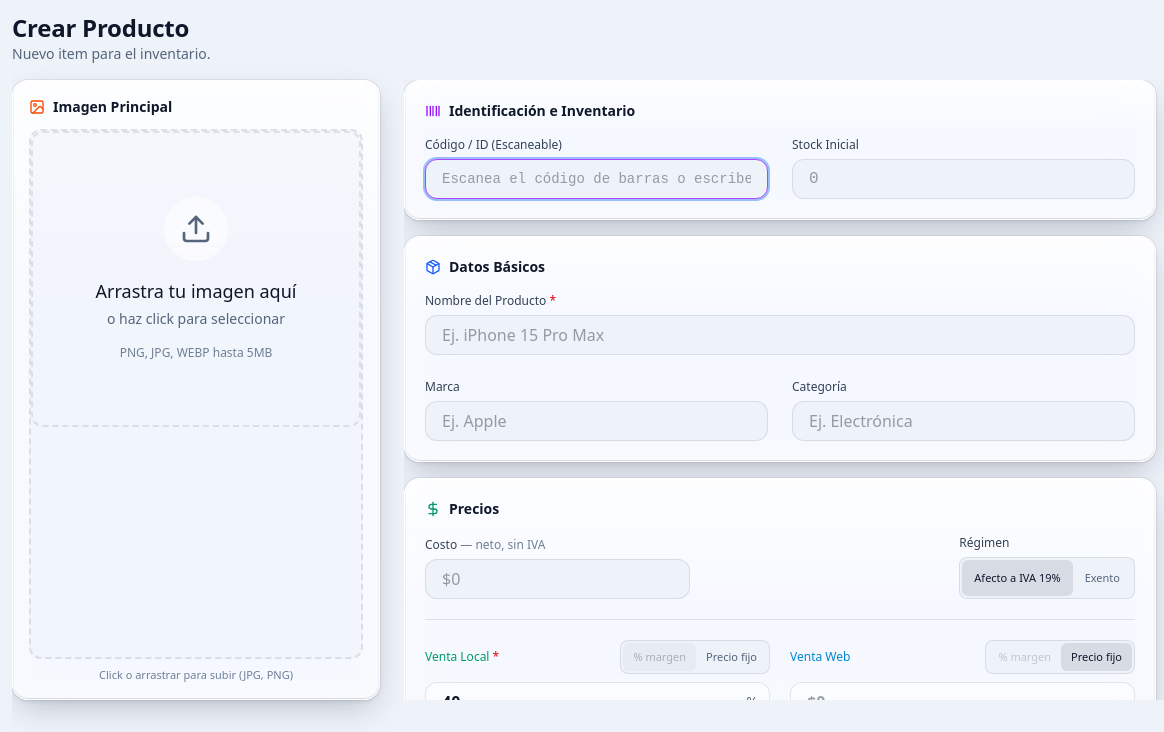
Test: Crear producto › cambiar el % recalcula; cambiar a precio fijo permite escribir
Type "1000" into the field with placeholder "$0" below "Costo" at (558, 579), box [425,559,690,599]
(page scrolled)
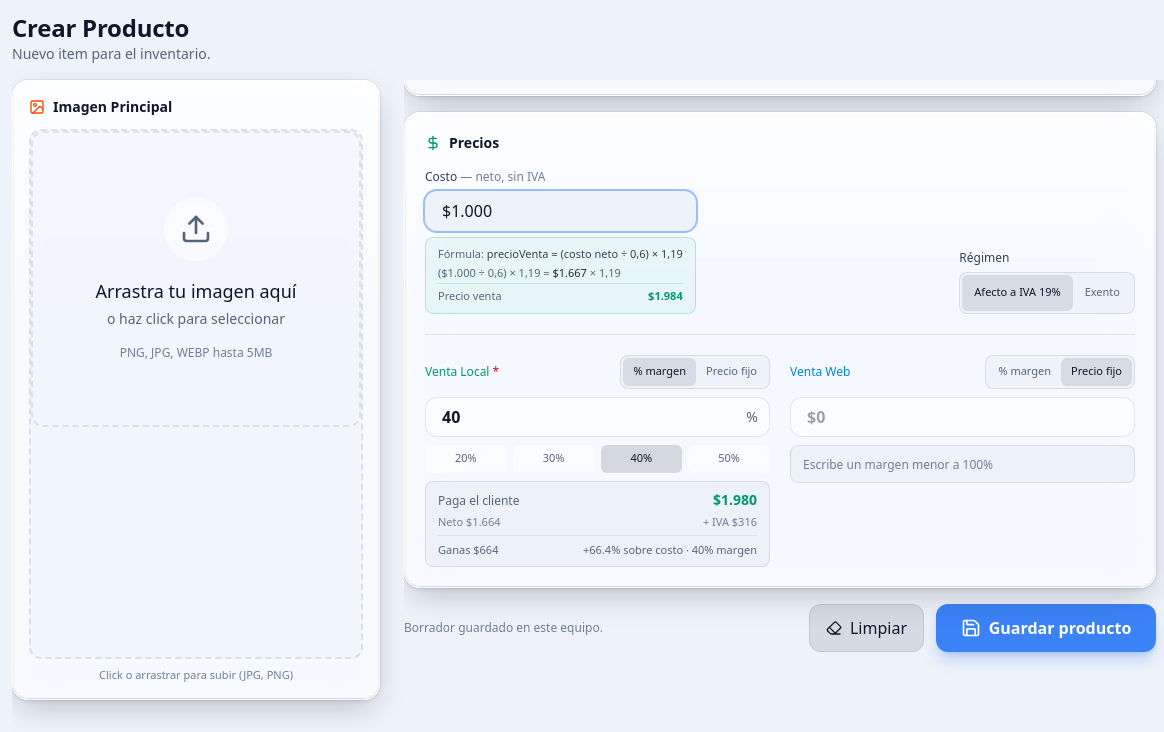
Click the button "20%" at (466, 458), box [425,444,507,472]
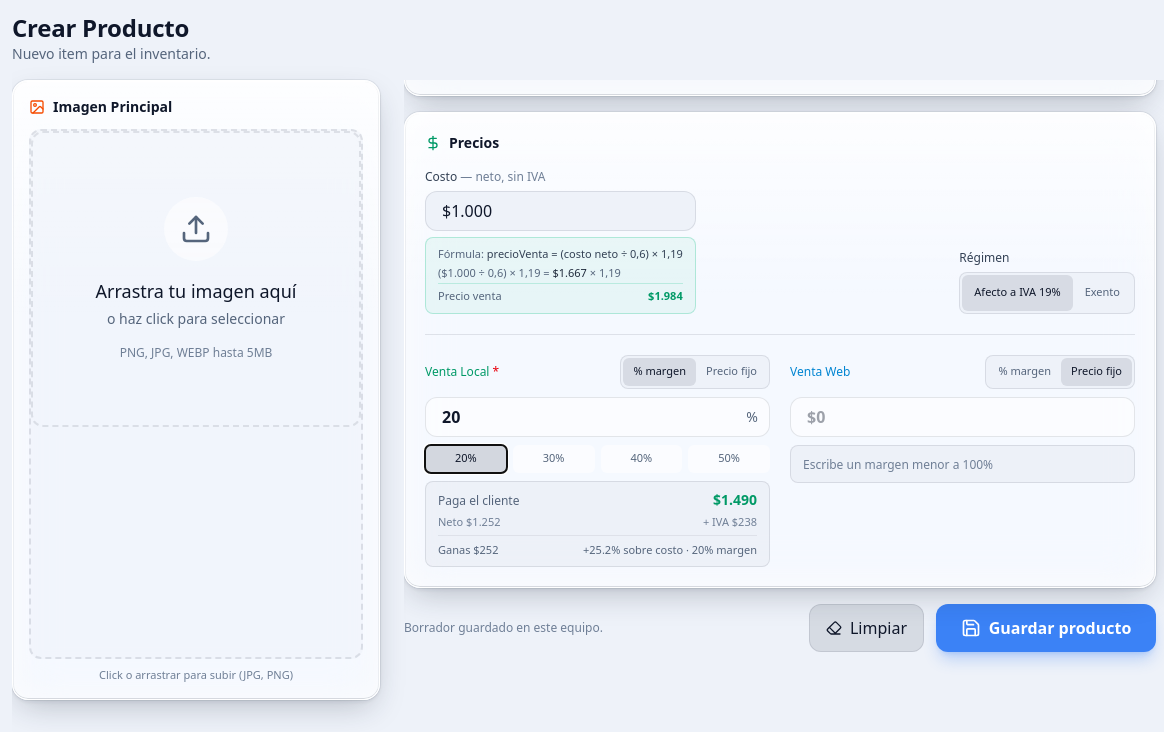
Check: the text "$1.490" is shown, box [713,490,757,510]
Click the button "Precio fijo" in the row of "Venta Local" at (732, 372), box [696,358,767,386]
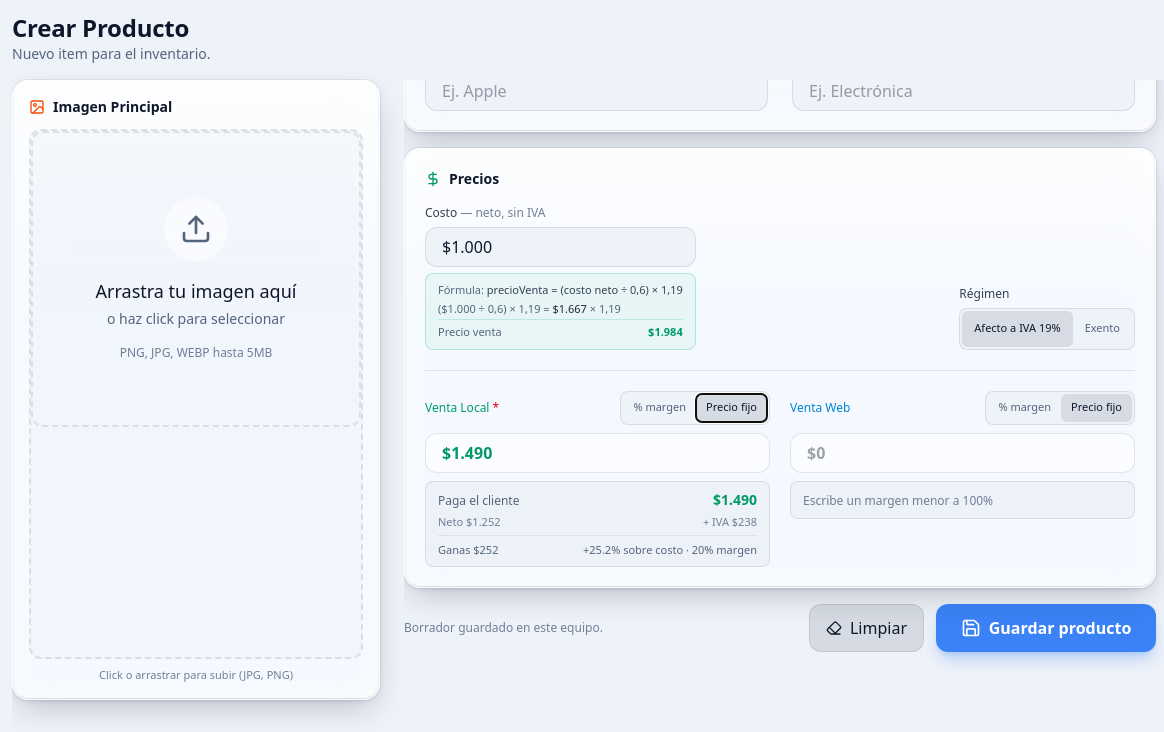
Clear the field below "Venta Local" at (598, 452), box [425,432,770,472]
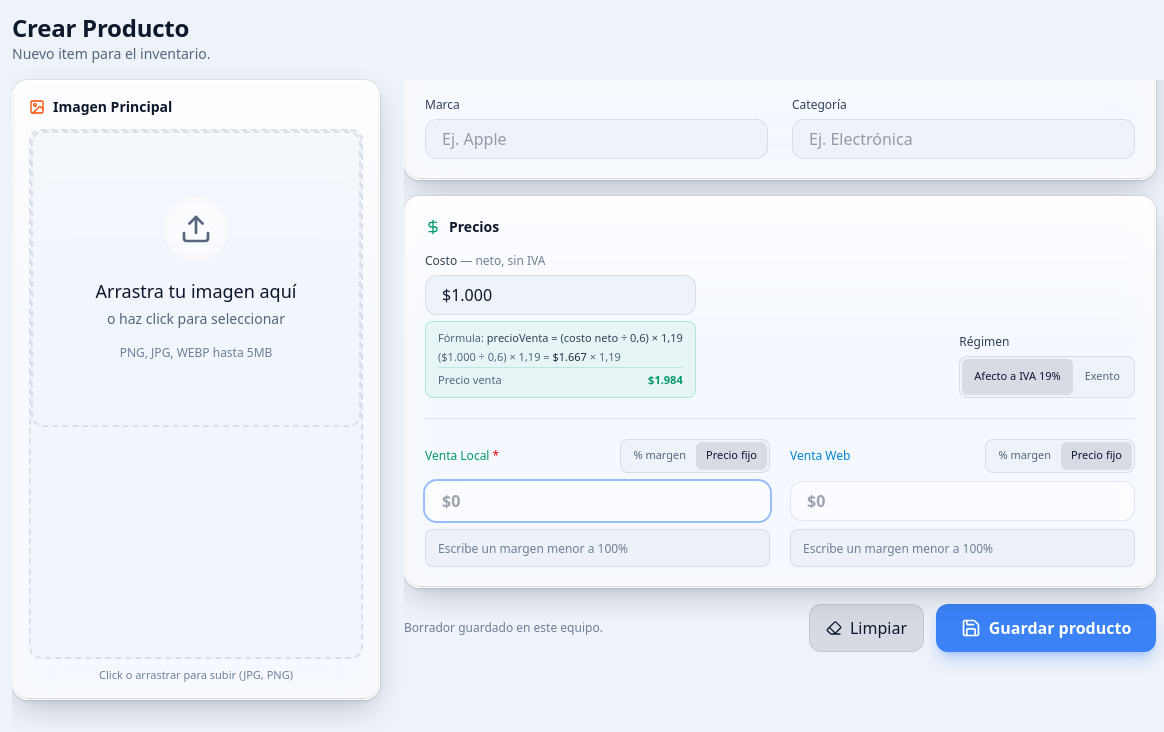
Type "2000" into the field with placeholder "$0" below "Venta Local" at (598, 500), box [425,480,770,520]
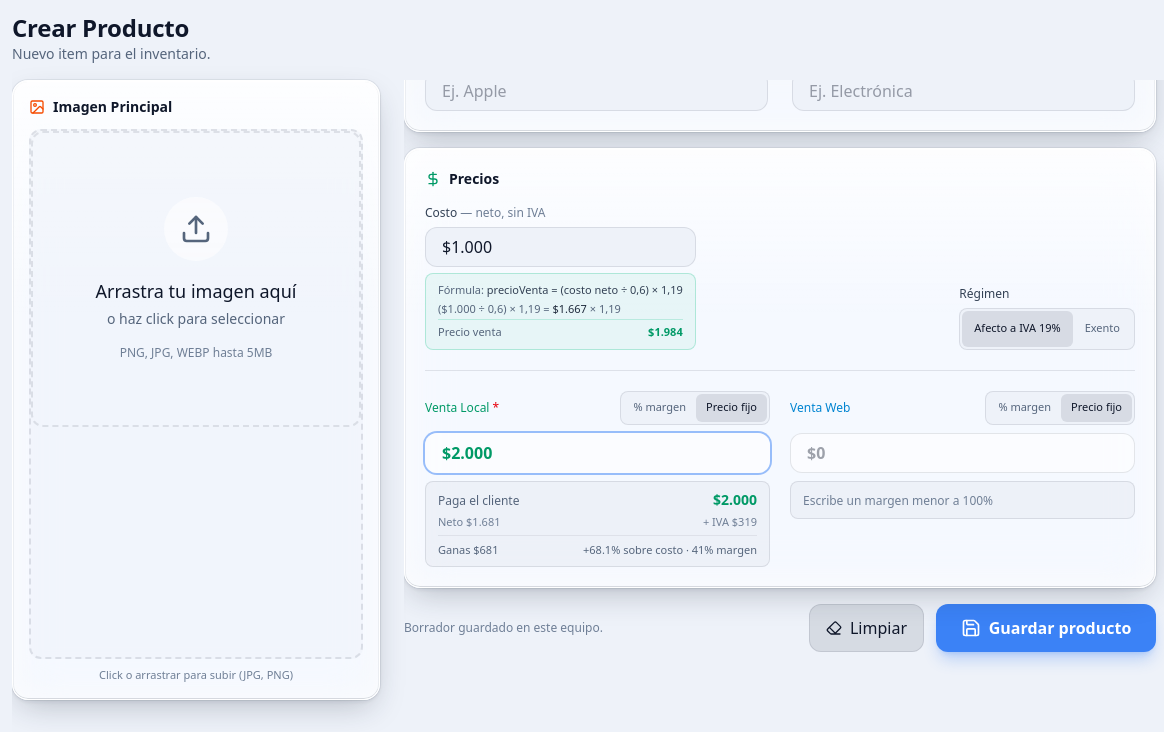
Check: the text "Ganas $681" is shown, box [438,542,498,558]
